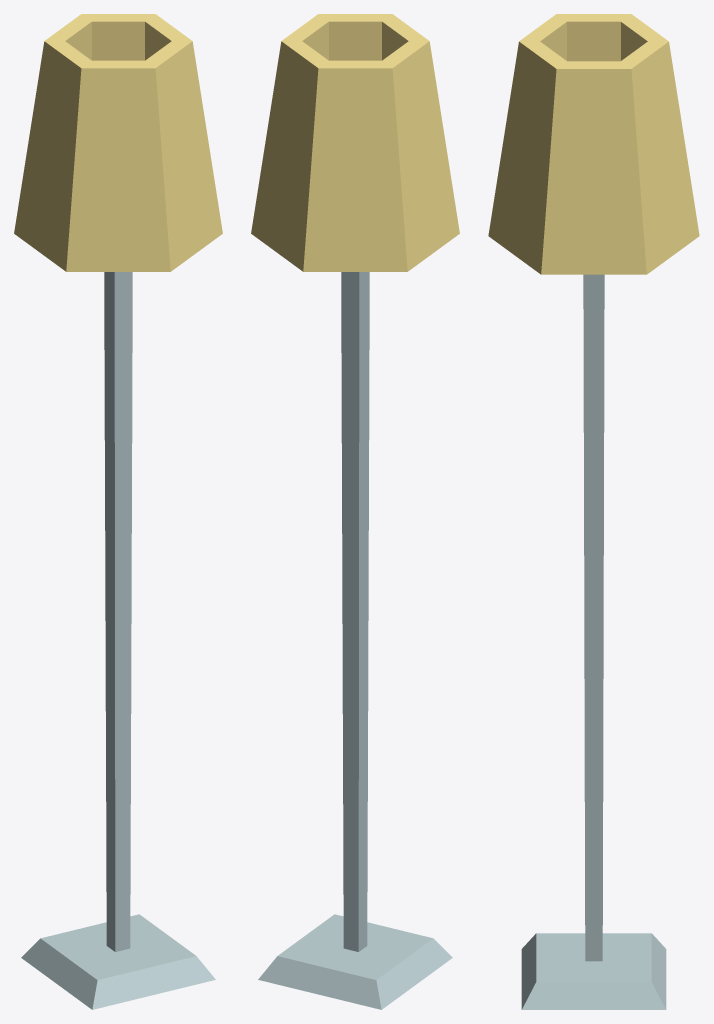
The model's file is lampRoundFloor.glb.
The picture shows the model from 3 angles, left to right: view 1: azimuth 30°, elevation 25°; view 2: azimuth 150°, elevation 25°; view 3: azimuth 270°, elevation 25°; orthographic projection.
Parts seen in each view (by area): view 1: lampRoundFloor; view 2: lampRoundFloor; view 3: lampRoundFloor.
Boxes of the visible parts, box(x1,y1,x2,y2) form: lampRoundFloor: box(14, 14, 222, 1009); lampRoundFloor: box(251, 14, 459, 1009); lampRoundFloor: box(488, 14, 699, 1009).
Bounding box in the file's own units: 0.3152 × 1.78 × 0.364.
